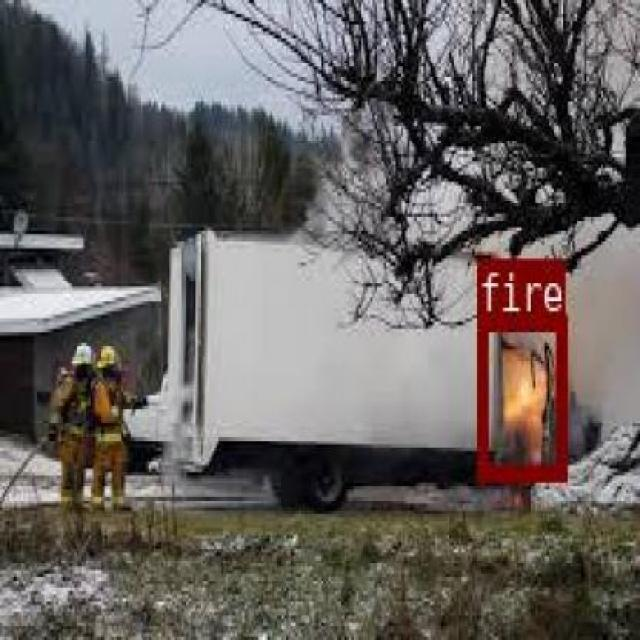Fire: (476, 312, 566, 478)
